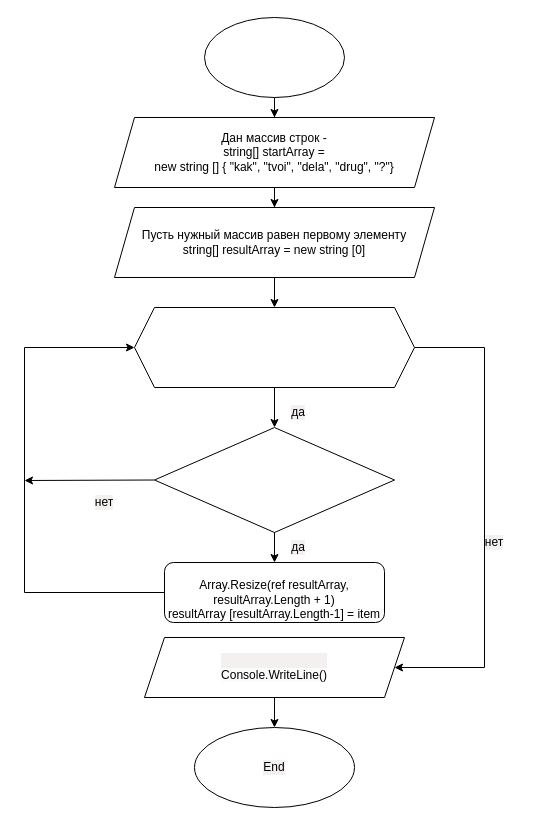
Some shapes in this 542 by 825 pixel diagram are drawn without their labels. Each missing label, with the centre of its shape:
Foreach (var item in resultArray): point 274,347
if (item.length<=3): point 274,479
Start: point 274,57
